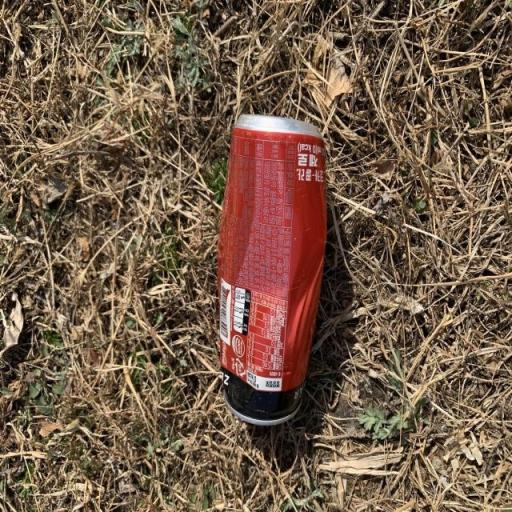metal: (195, 92, 338, 458)
